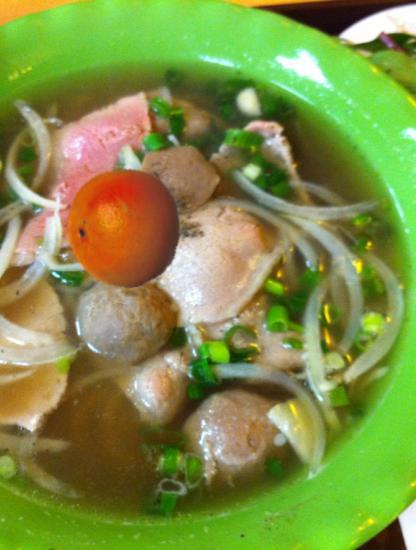Grapefruit: (64, 167, 186, 289)
